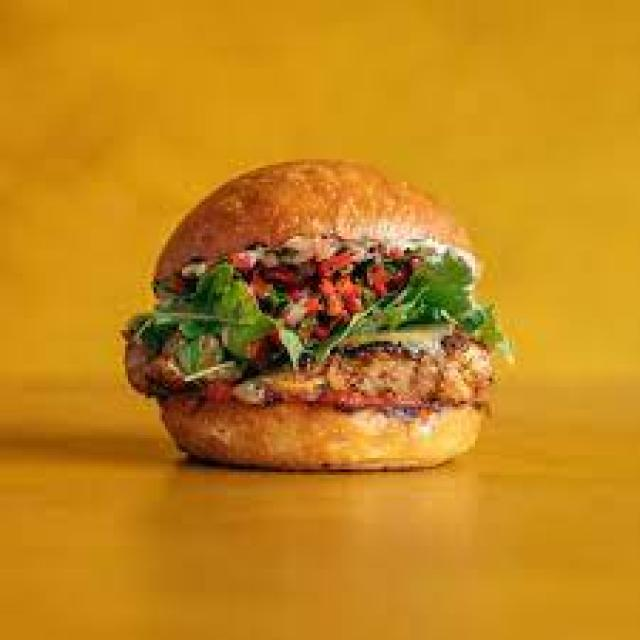Wet Waste: (126, 110, 526, 497)
